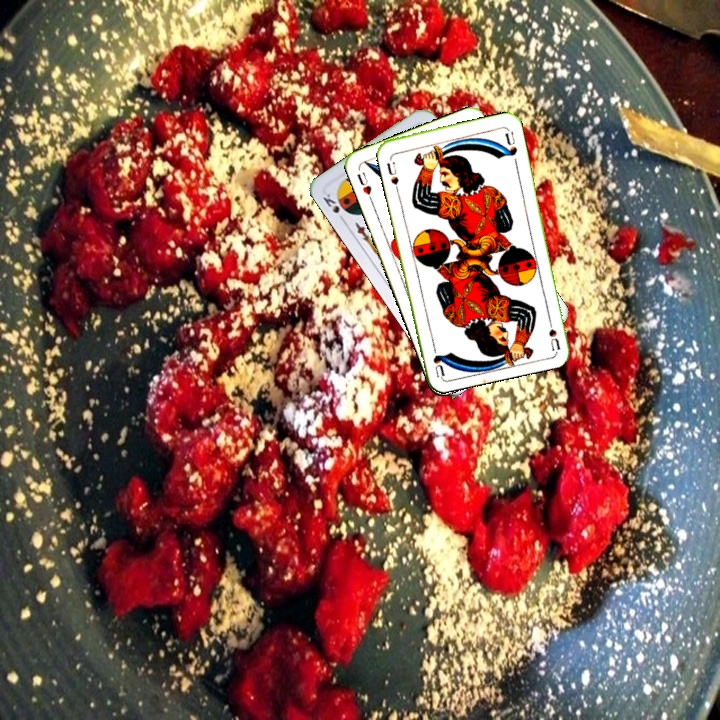HU: (353, 168, 375, 204)
SK: (319, 189, 348, 225)
SU: (544, 311, 562, 352), (382, 158, 401, 187)
